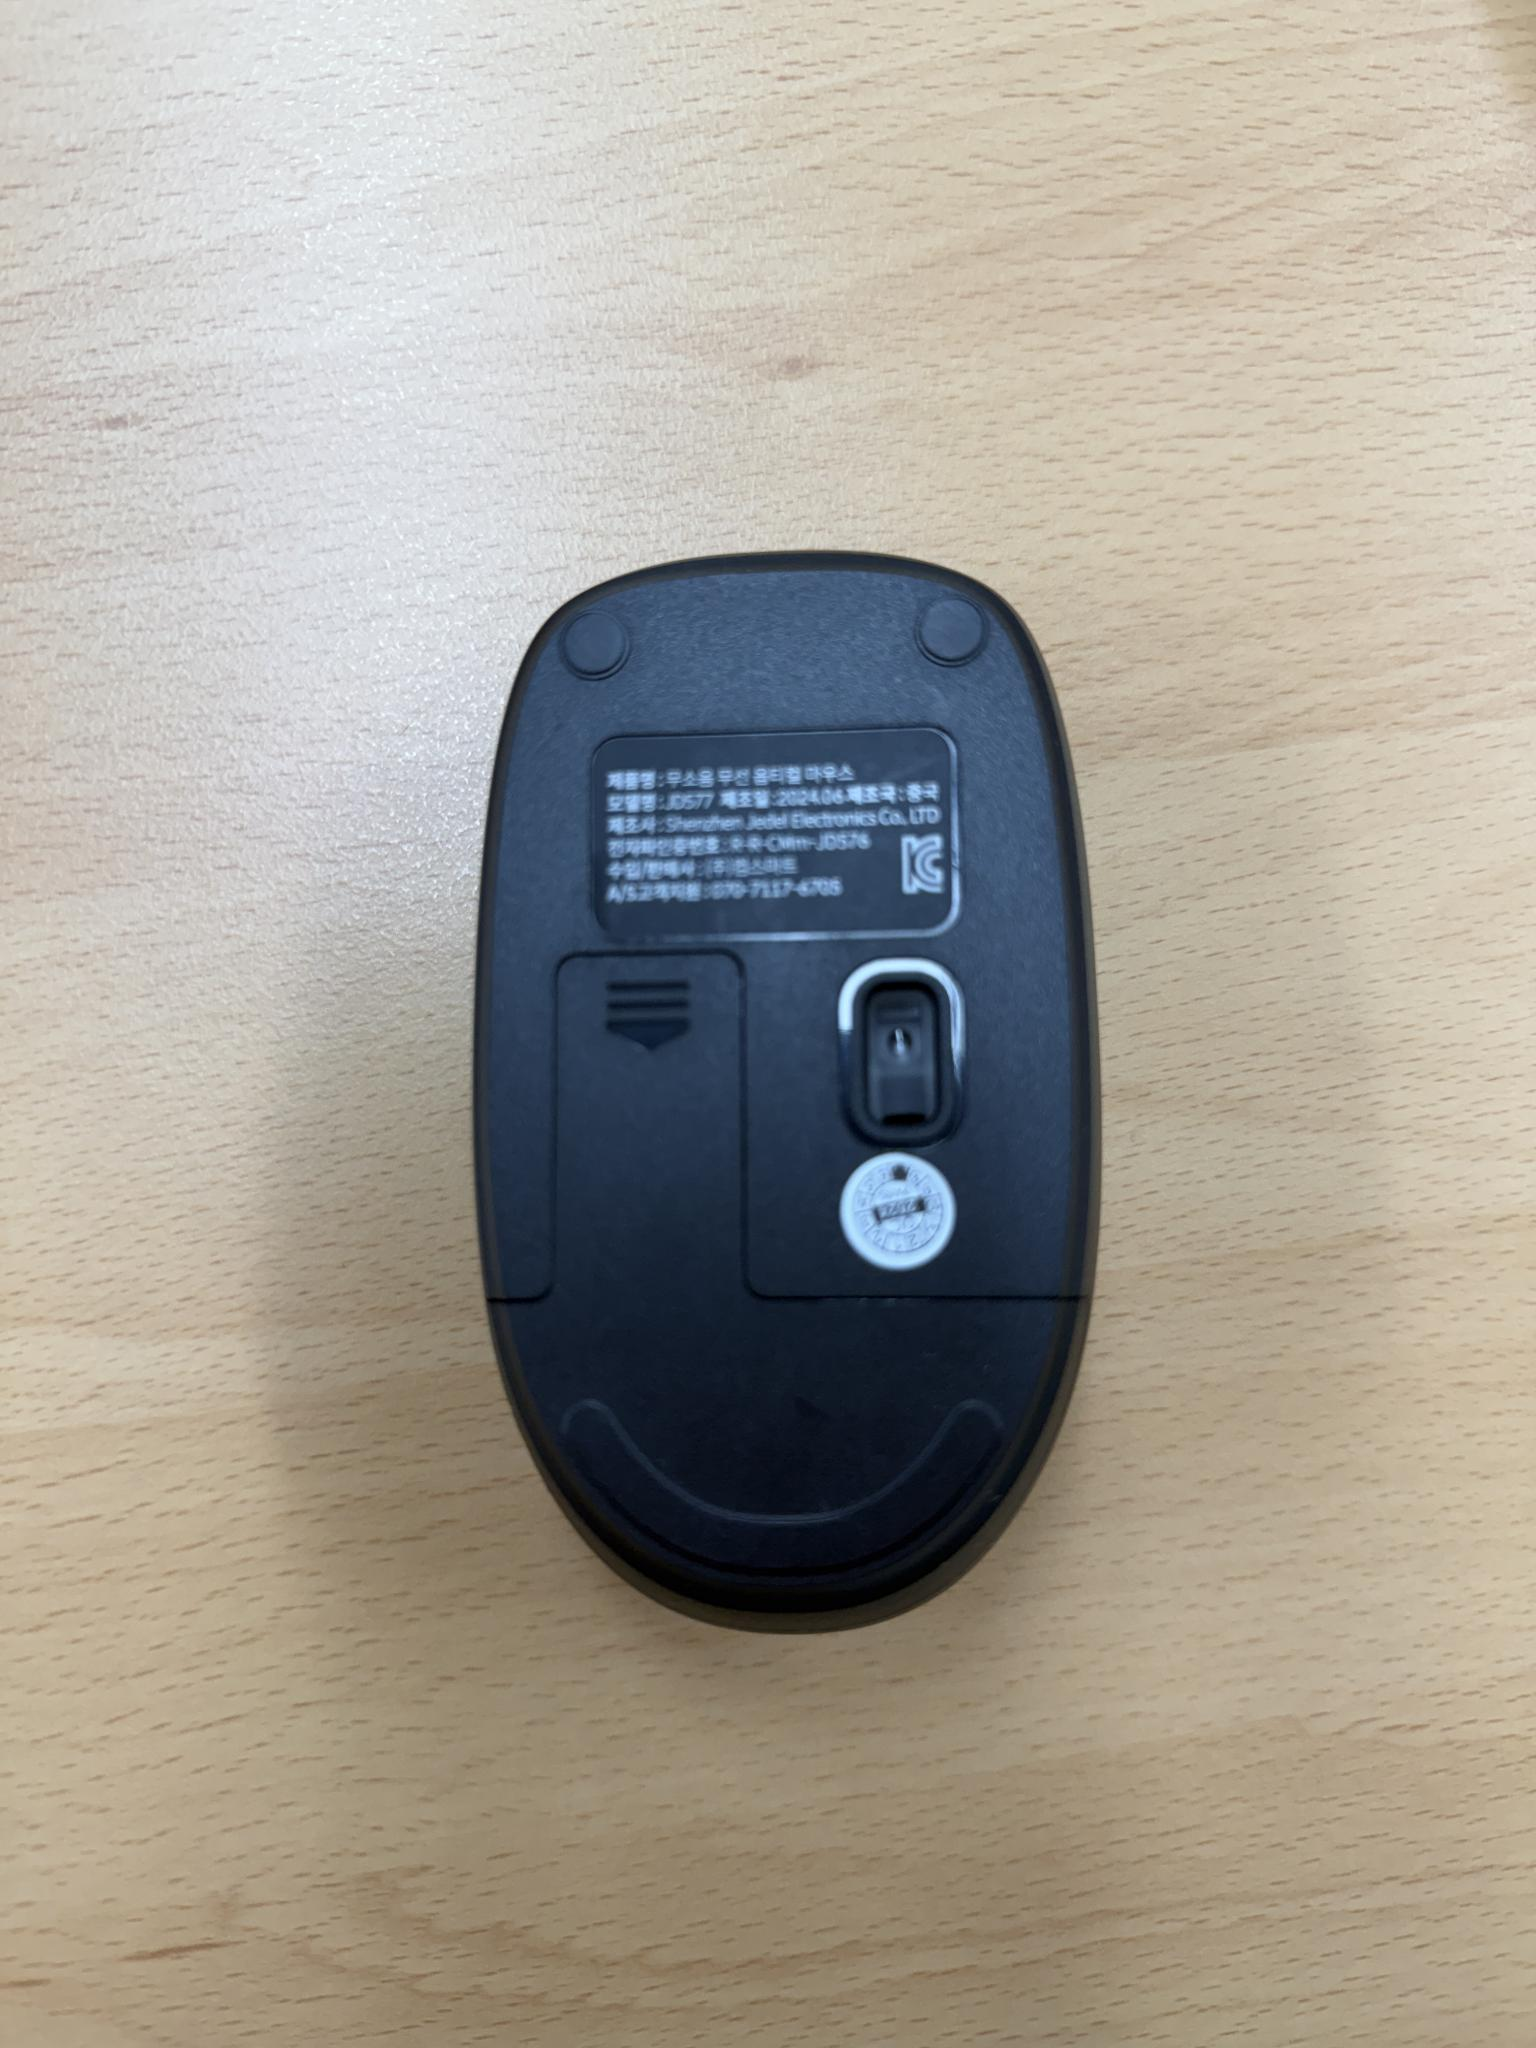back: (461, 543, 1102, 1635)
